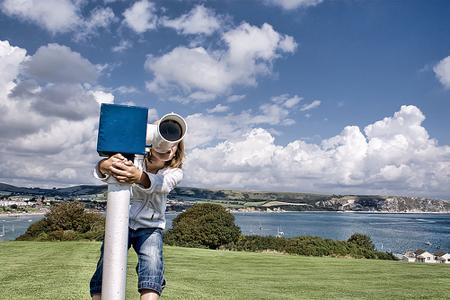person: (90, 117, 186, 300)
